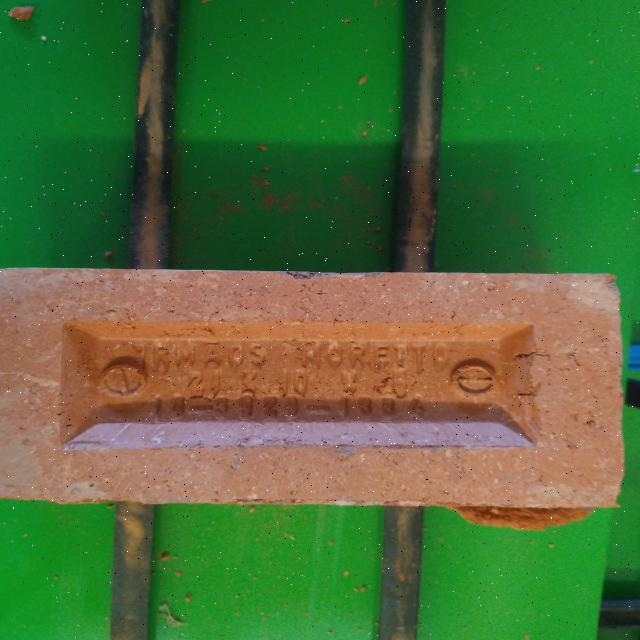bricks_ruin: (0, 268, 620, 528)
